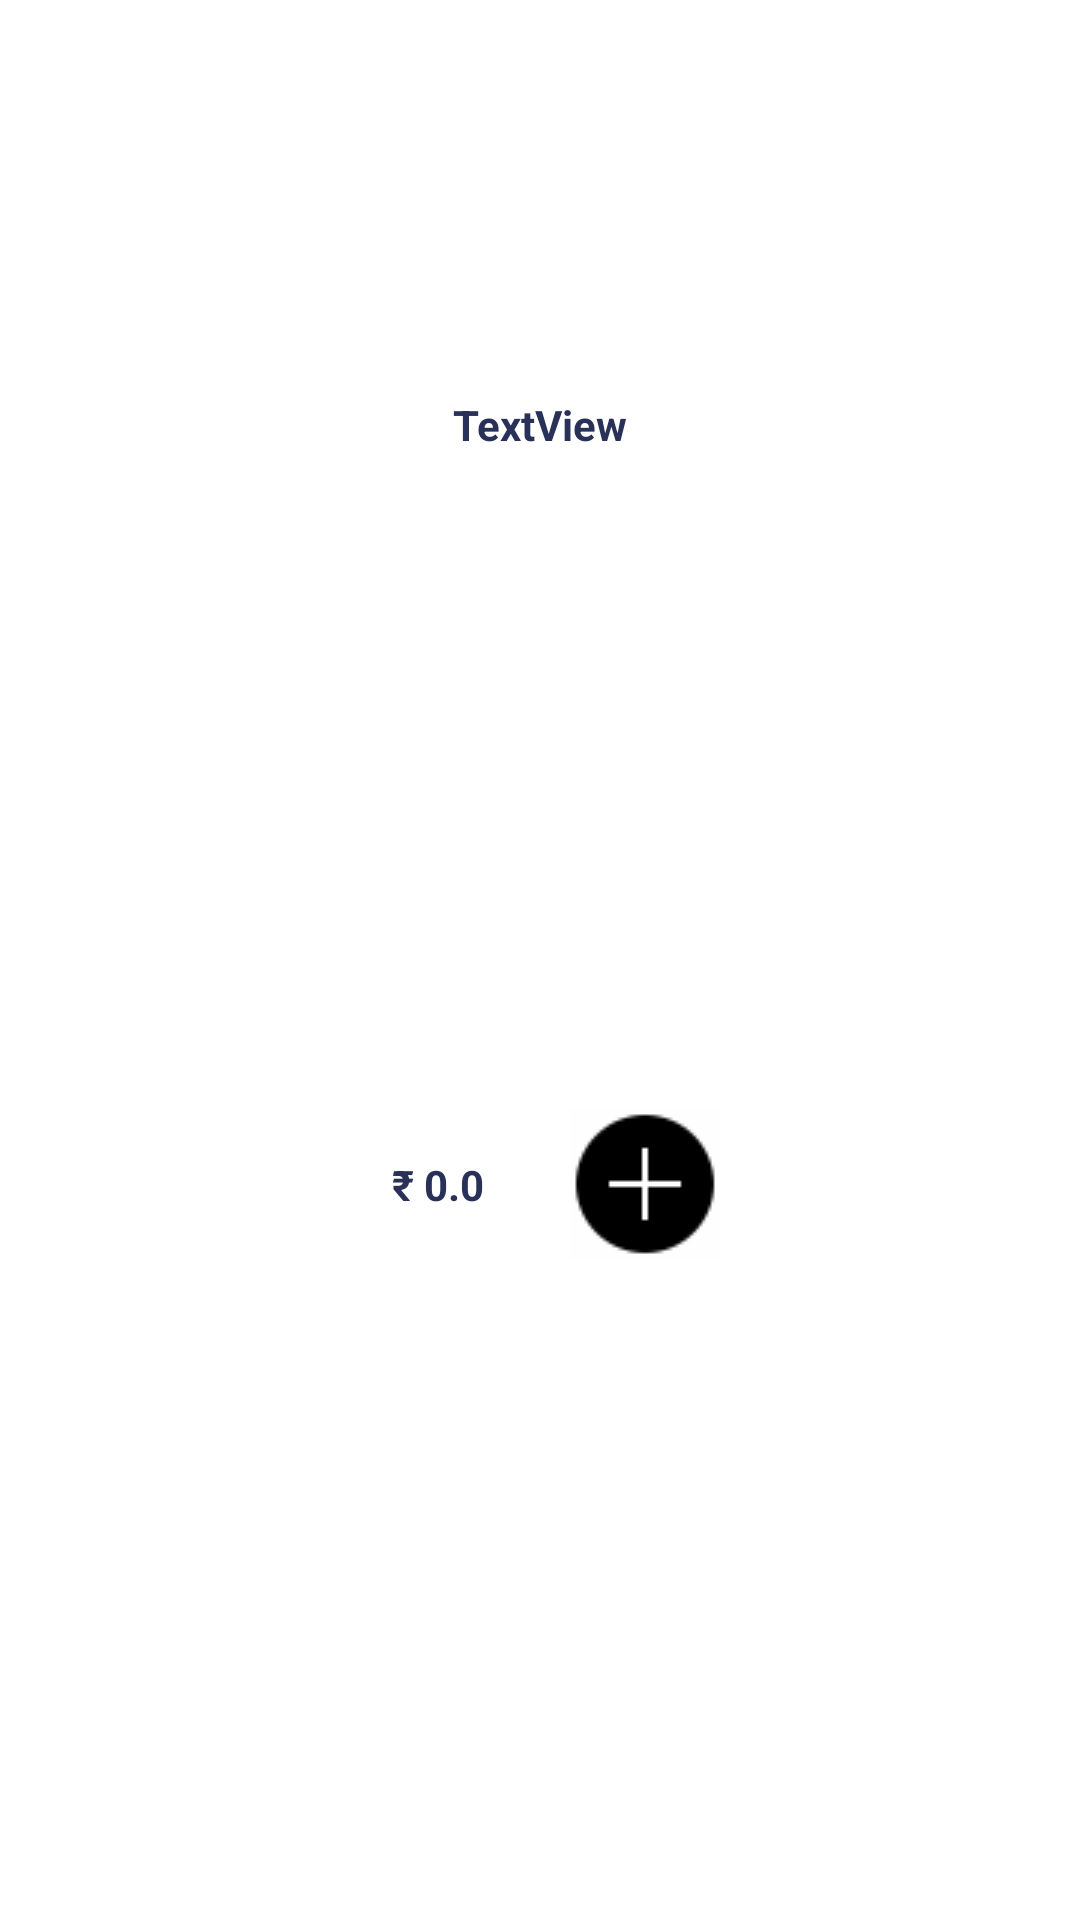

Icons on this 1080w x 1920h Android screen, each with the point to tap as (x,y):
plus: (645,1184)
